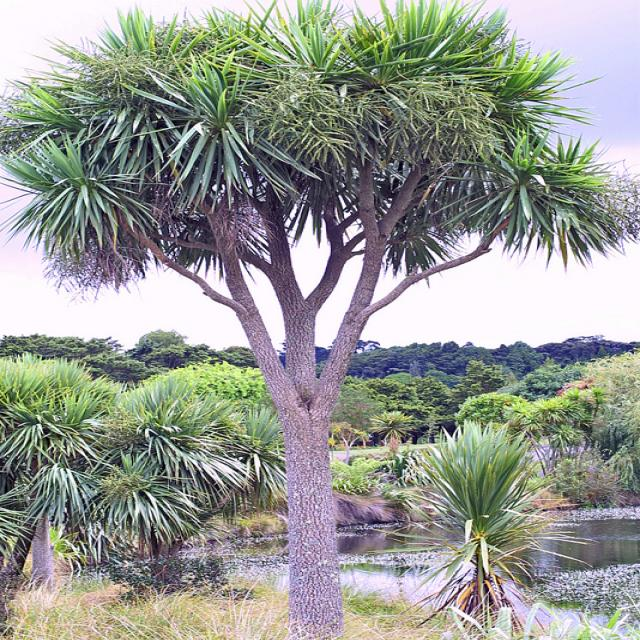Cordyline australis: (22, 11, 640, 344)
